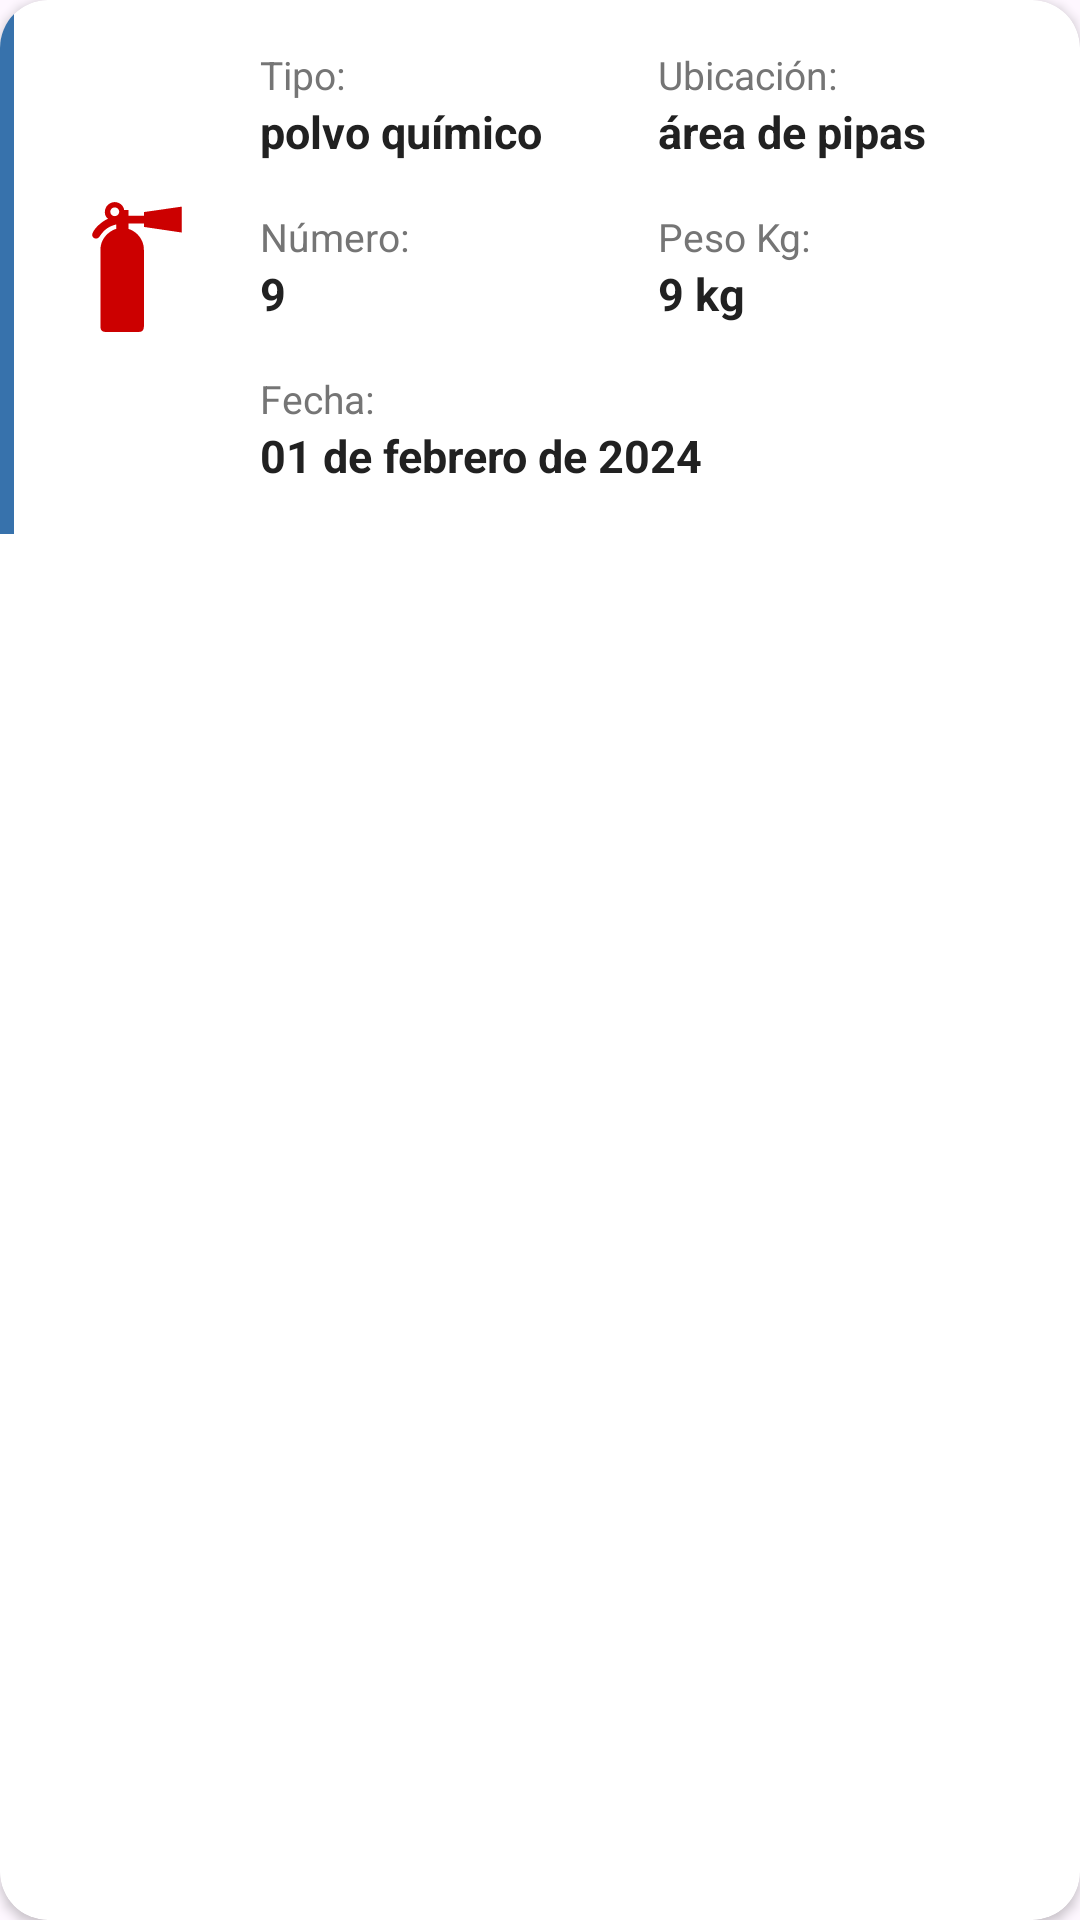

Locate icon controls on the screen. Image size 1080x1920, boxes as region(x1, y1, x2, y2).
extintores: region(92, 202, 182, 332)
